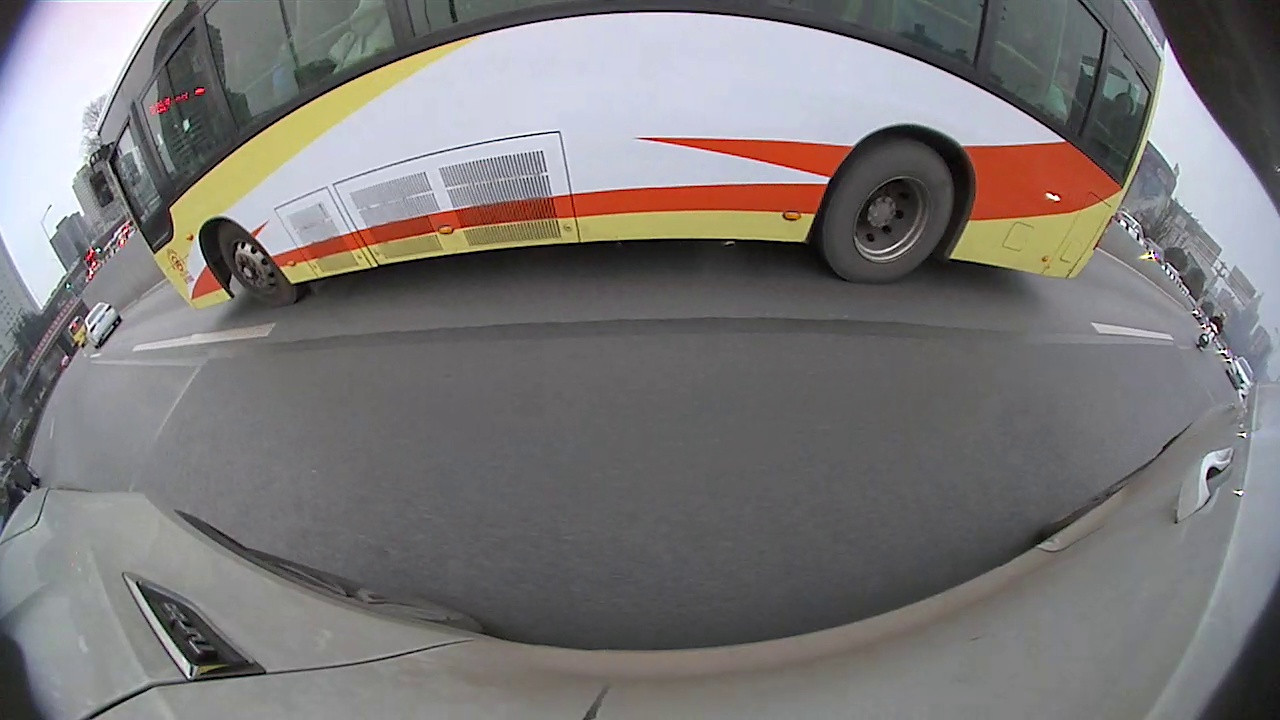bus: (88, 1, 1167, 310)
car: (3, 452, 38, 527), (83, 299, 123, 351)
front: (212, 217, 307, 310)
rear: (813, 135, 961, 280)
rider: (1195, 312, 1228, 349)
